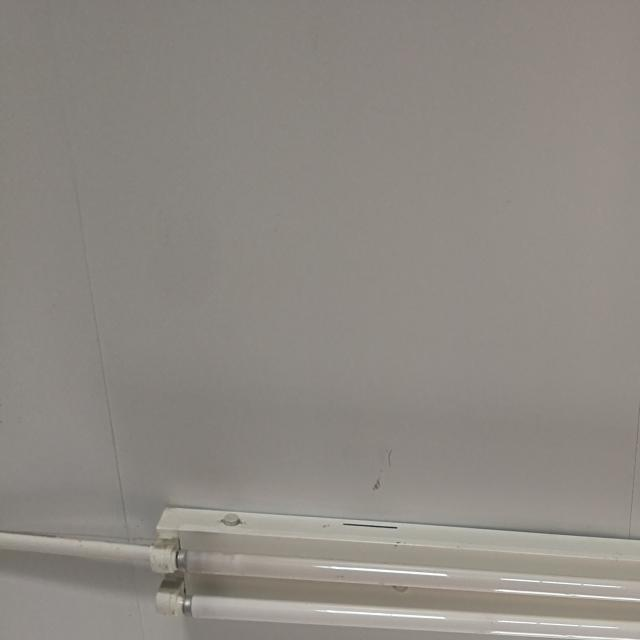fluorescent tube: (103, 479, 640, 640)
